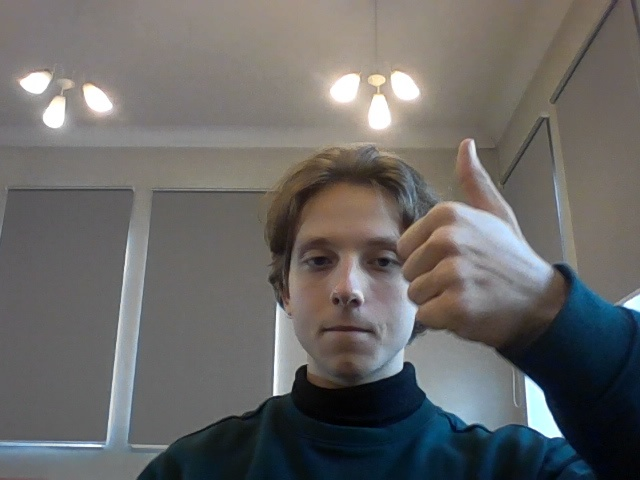thank you: (399, 138, 546, 363)
